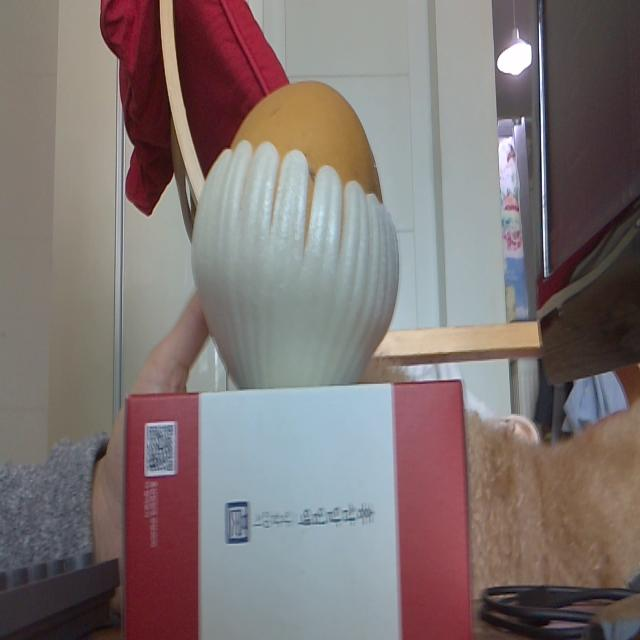pear: (202, 80, 394, 385)
